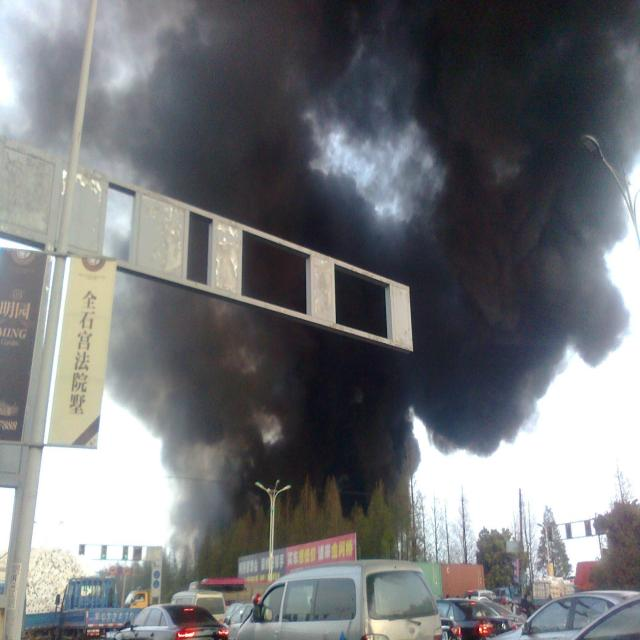smoke: (132, 316, 416, 487), (156, 6, 316, 206), (0, 1, 84, 139)
